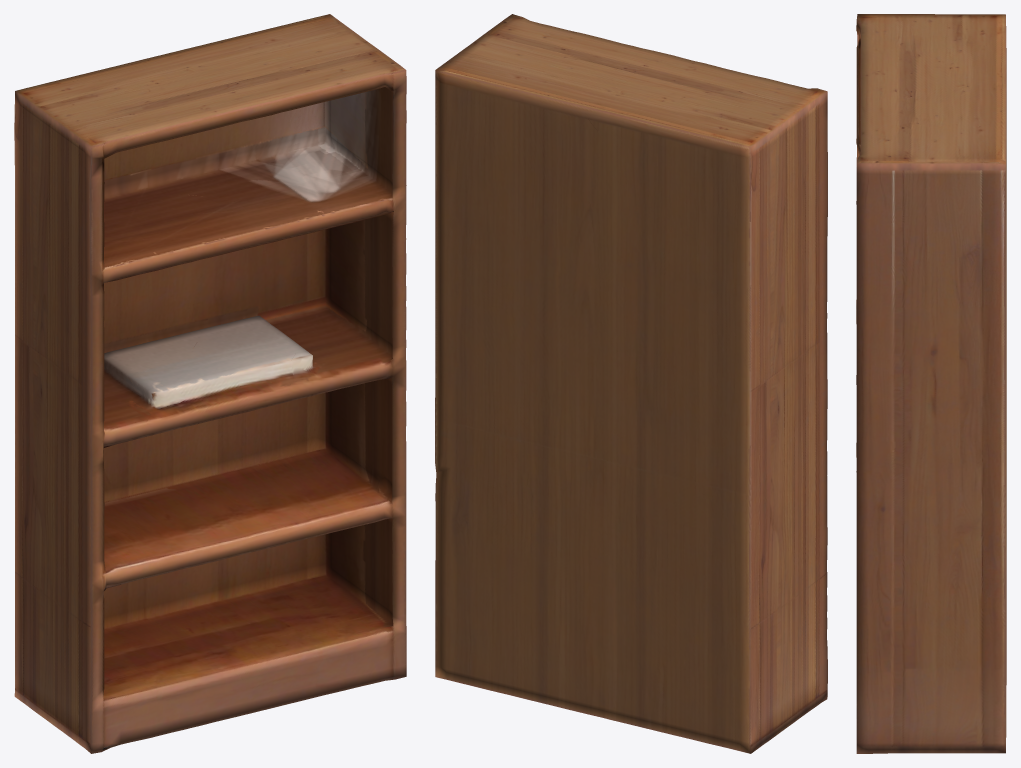
File: shelf1.obj
3 views of the same model, side by side, from view 1: azimuth 30°, elevation 25°; view 2: azimuth 150°, elevation 25°; view 3: azimuth 270°, elevation 25° (orthographic). The views are drawn at different scales.
Visible parts, largest first — view 1: bookshelf; view 2: bookshelf; view 3: bookshelf.
Boxes of the visible parts, <box> form: bookshelf: <box>14,14,406,753</box>; bookshelf: <box>435,14,827,753</box>; bookshelf: <box>856,14,1006,753</box>.
Size of what is drawn, in the model's own units: 1.08 by 1.99 by 0.459.
